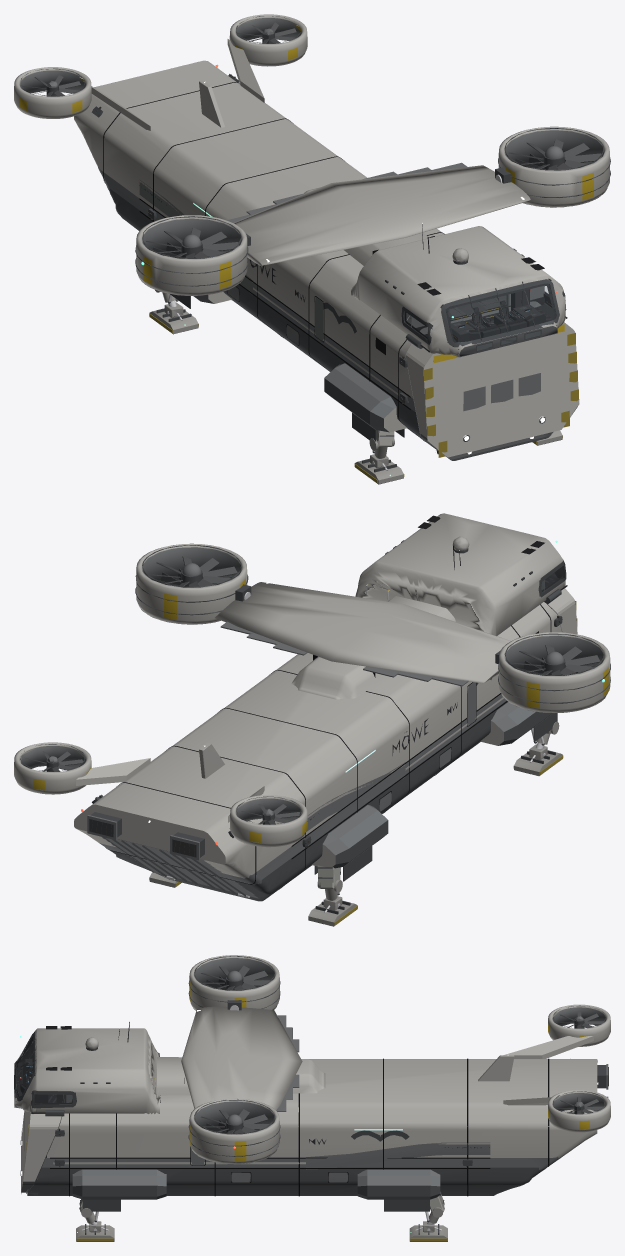
The model's file is MoeweFern.glb.
3 renders of one model, top to bottom at view 1: azimuth 30°, elevation 25°; view 2: azimuth 150°, elevation 25°; view 3: azimuth 270°, elevation 25°, orthographic. The views are drawn at different scales.
Parts seen in each view (by area): view 1: Fahrwerkskasten hinten.002, Haube.001, Mantel.003, Bugplatte.001, Mantel.002, Kanzelglas.001, Duesenblock.008, Duesenrahmen.002, Bandkante.004, cp CP Formteil.001, Bugfeld.003, Bandlinie.002 (+10 smaller); view 2: Fahrwerkskasten hinten.002, Mantel.003, Bugplatte.001, Mantel.002, Duesenrahmen.002, Bandkante.004, Rampenhaut.003, Duesenblock.008, Rampenblatt.003, Bandlinie.002, Gitterstab.018, Gitterstab.027 (+8 smaller); view 3: Fahrwerkskasten hinten.002, Bugplatte.001, Mantel.002, Duesenrahmen.002, Mantel.003, Duesenblock.008, Bandkante.004, Haube.001, Bandlinie.002, Kanzelglas.001, Gitterstab.027, Gitterstab.018 (+9 smaller).
Part boxes in pixels (x1,y1,x2,y2): Fahrwerkskasten hinten.002: [14, 14, 565, 459]; Haube.001: [406, 322, 579, 457]; Mantel.003: [136, 215, 247, 295]; Bugplatte.001: [20, 18, 552, 459]; Mantel.002: [498, 126, 609, 207]; Kanzelglas.001: [404, 279, 556, 350]; Duesenblock.008: [20, 16, 566, 454]; Duesenrahmen.002: [47, 28, 467, 344]; Bandkante.004: [103, 82, 444, 441]; cp CP Formteil.001: [417, 289, 545, 342]; Bugfeld.003: [463, 373, 540, 411]; Bandlinie.002: [139, 80, 468, 402]; Fahrwerkskasten hinten.002: [14, 513, 565, 901]; Mantel.003: [499, 632, 610, 713]; Bugplatte.001: [21, 603, 554, 885]; Mantel.002: [136, 543, 247, 624]; Duesenrahmen.002: [47, 621, 476, 860]; Bandkante.004: [105, 604, 551, 889]; Rampenhaut.003: [106, 838, 257, 898]; Duesenblock.008: [20, 548, 566, 857]; Rampenblatt.003: [112, 839, 245, 896]; Bandlinie.002: [199, 536, 503, 817]; Gitterstab.018: [135, 545, 251, 615]; Gitterstab.027: [495, 633, 610, 703]; Fahrwerkskasten hinten.002: [14, 1004, 610, 1199]; Bugplatte.001: [29, 1007, 605, 1190]; Mantel.002: [189, 1098, 279, 1164]; Duesenrahmen.002: [26, 1015, 608, 1193]; Mantel.003: [189, 955, 279, 1010]; Duesenblock.008: [14, 1005, 606, 1195]; Bandkante.004: [50, 1058, 549, 1196]; Haube.001: [21, 1111, 61, 1191]; Bandlinie.002: [53, 1037, 514, 1164]; Kanzelglas.001: [16, 1035, 72, 1107]; Gitterstab.027: [188, 956, 280, 1010]; Gitterstab.018: [188, 1099, 280, 1156].
Size of the model in its own units: 26.81 by 12.13 by 36.88.
